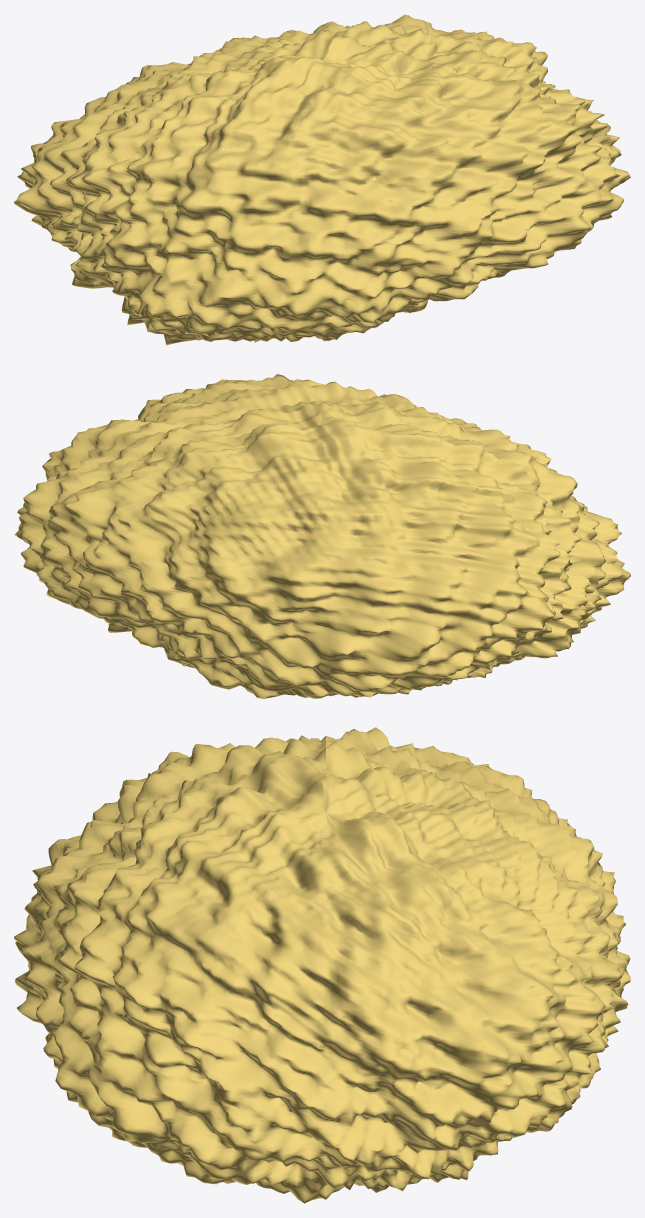
Rendered from adipose-10g.glb.
3 views of the same model, one above another, from view 1: azimuth 30°, elevation 25°; view 2: azimuth 150°, elevation 25°; view 3: azimuth 270°, elevation 25° (orthographic). The views are drawn at different scales.
Visible parts, largest first — view 1: fat_lump_10g; view 2: fat_lump_10g; view 3: fat_lump_10g.
Boxes of the visible parts, x1,y1,x2,y2 form: fat_lump_10g: [14, 14, 630, 345]; fat_lump_10g: [14, 374, 630, 698]; fat_lump_10g: [14, 727, 630, 1203].
Bounding box in the file's own units: 0.0434 × 0.0178 × 0.0325.
